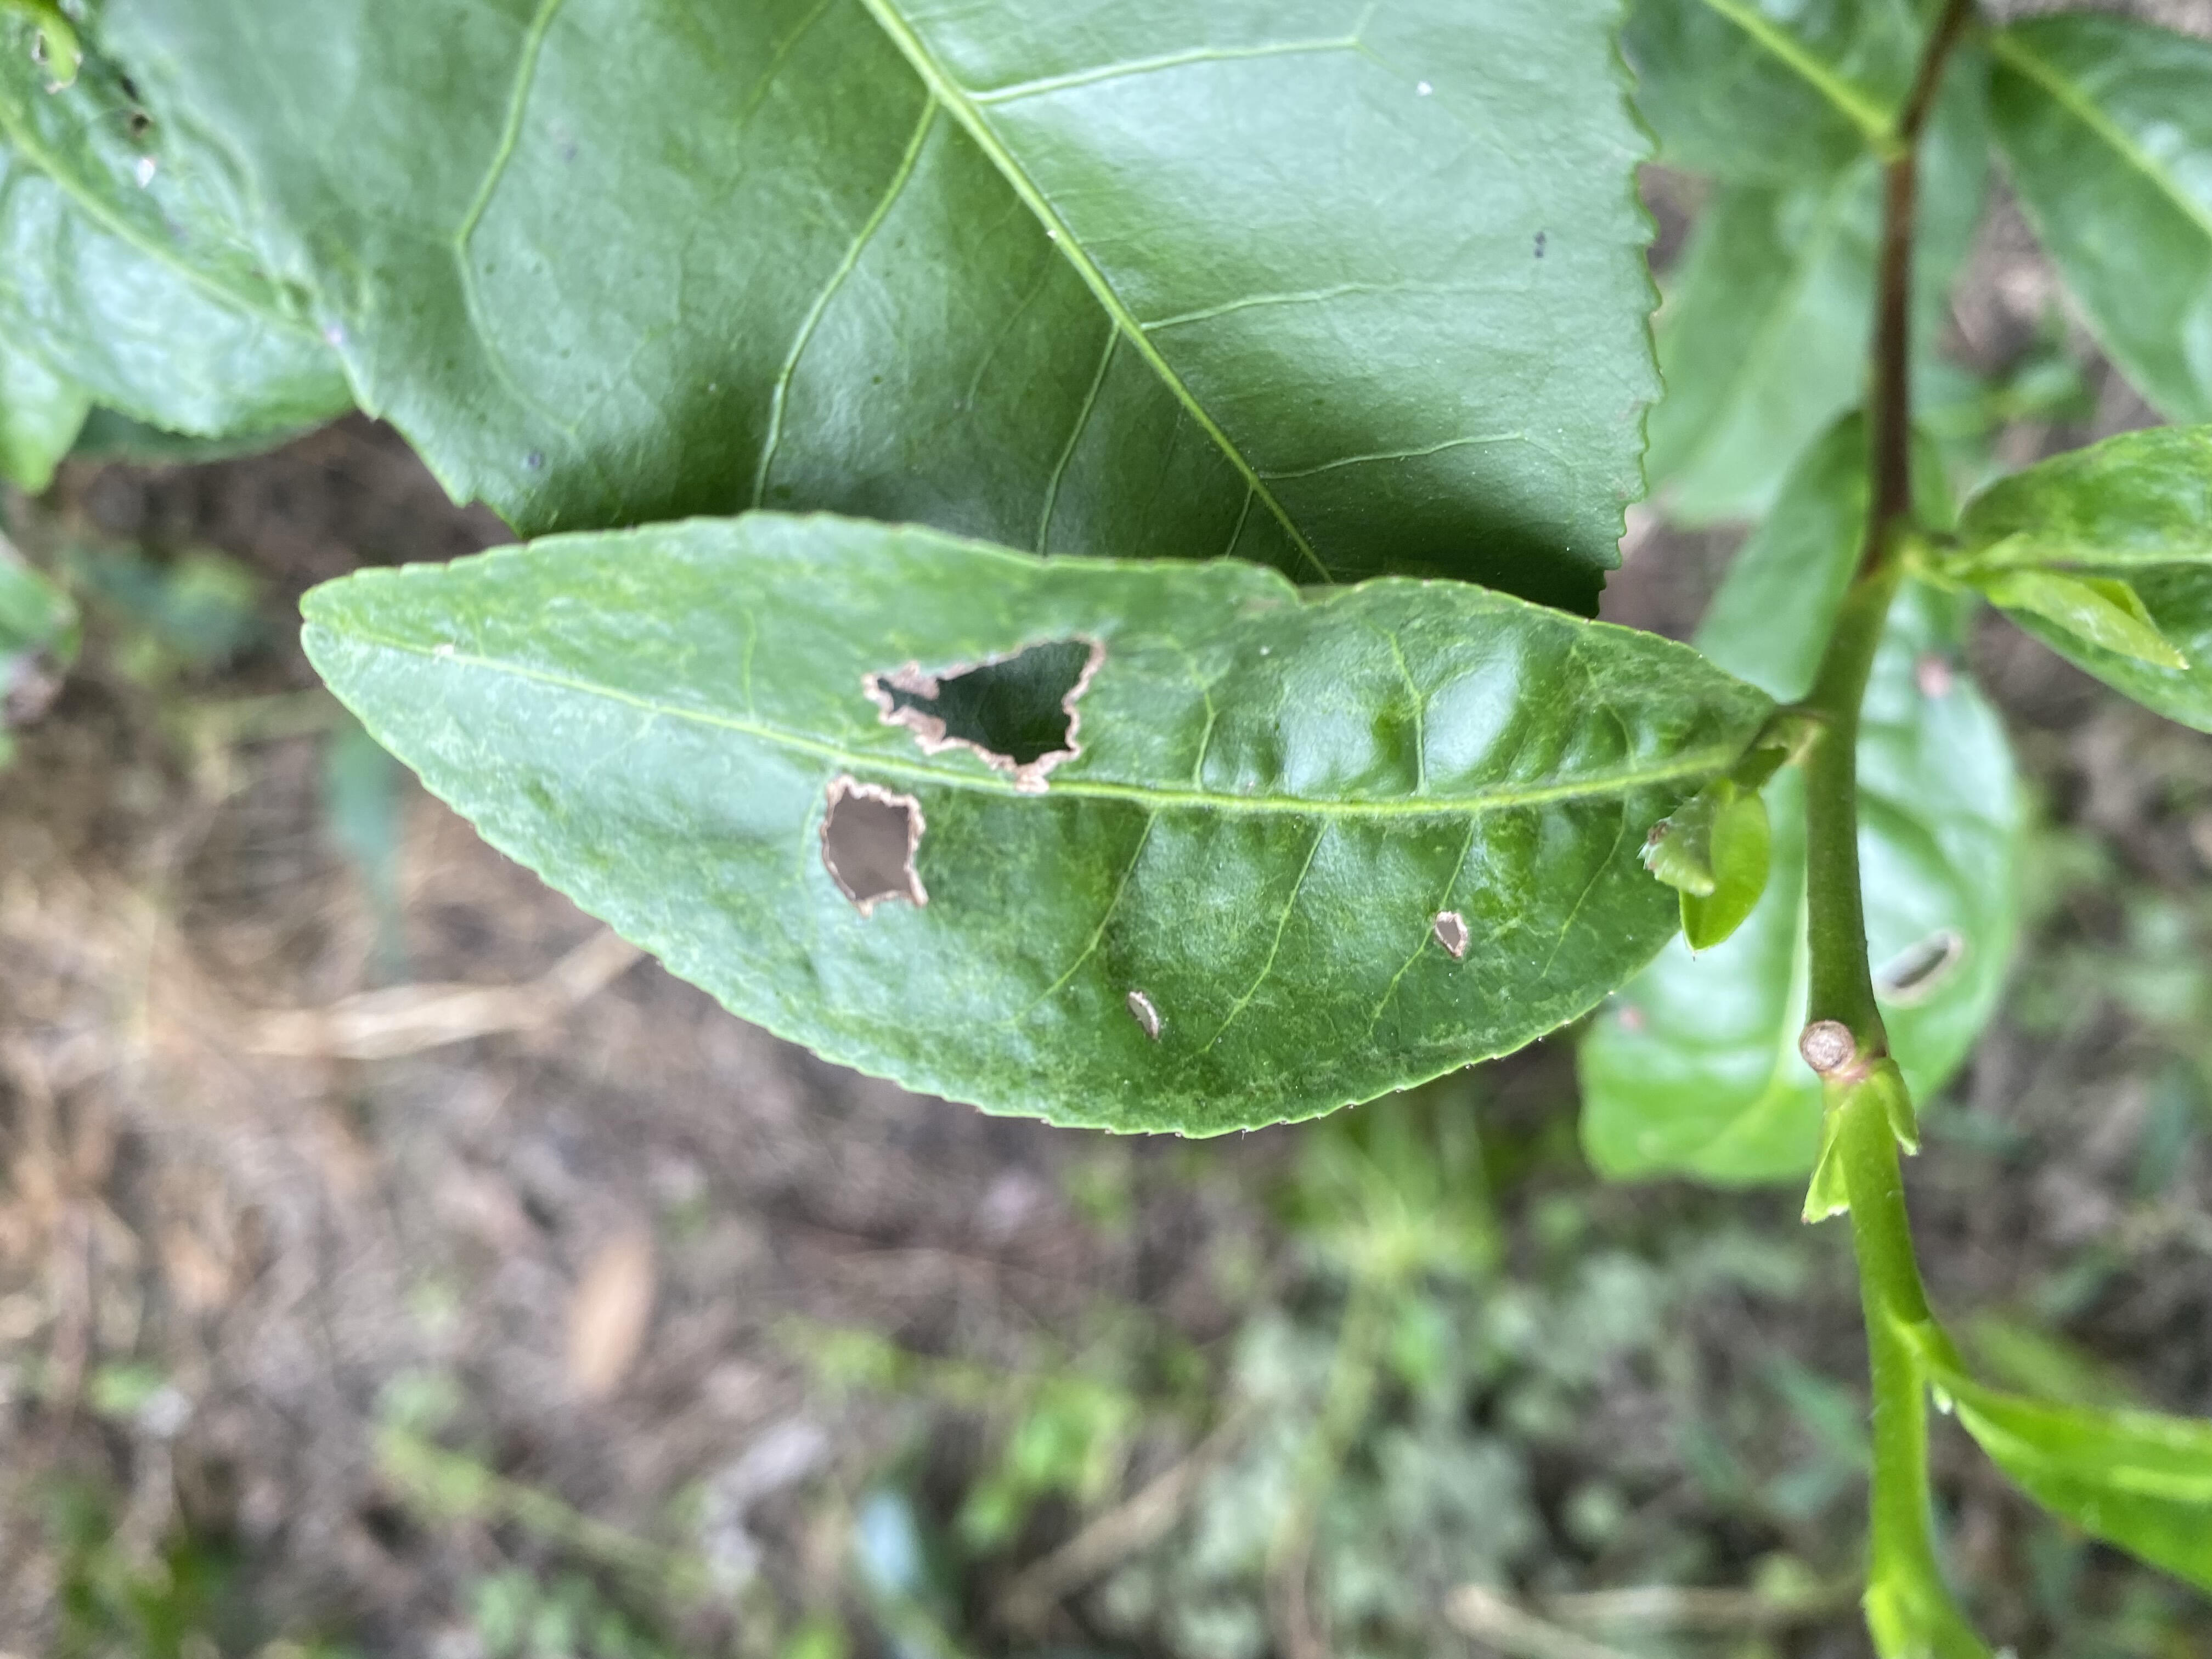chihuo_high: (289, 502, 1773, 1138)
